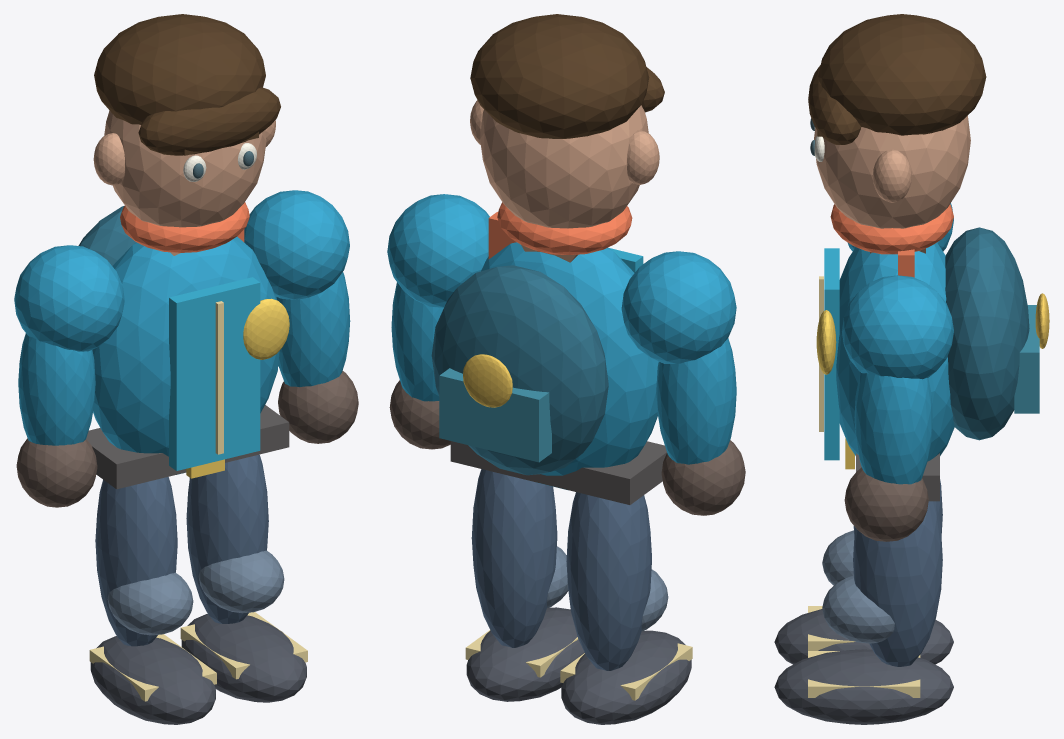
The model's file is runner_hero.glb.
3 renders of one model, left to right at view 1: azimuth 30°, elevation 25°; view 2: azimuth 150°, elevation 25°; view 3: azimuth 270°, elevation 25°, orthographic. The views are drawn at different scales.
Visible parts, largest first — view 1: torso, jacket_front, hair_cap, head, shoulder_L, shoulder_R, leg_L, leg_R, boot_L, arm_L, boot_R, arm_R (+13 smaller); view 2: backpack, hair_cap, head, torso, leg_L, leg_R, shoulder_L, shoulder_R, arm_L, boot_L, backpack_pocket, boot_R (+13 smaller); view 3: hair_cap, backpack, head, boot_R, shoulder_R, leg_R, arm_R, torso, glove_R, boot_L, knee_pad_R, neck_scarf (+12 smaller).
Part boxes in pixels (left/top/right/bottom): torso: left=92, top=236, right=279, bottom=474; jacket_front: left=169, top=277, right=260, bottom=470; hair_cap: left=94, top=14, right=265, bottom=124; head: left=104, top=110, right=266, bottom=227; shoulder_L: left=14, top=245, right=124, bottom=351; shoulder_R: left=244, top=190, right=349, bottom=299; leg_L: left=95, top=477, right=177, bottom=646; leg_R: left=186, top=454, right=268, bottom=623; boot_L: left=90, top=636, right=215, bottom=724; arm_L: left=18, top=333, right=95, bottom=445; boot_R: left=181, top=614, right=306, bottom=702; arm_R: left=276, top=272, right=350, bottom=387; backpack: left=431, top=265, right=608, bottom=475; hair_cap: left=470, top=14, right=649, bottom=138; head: left=480, top=105, right=648, bottom=228; torso: left=481, top=242, right=658, bottom=489; leg_L: left=566, top=492, right=651, bottom=670; leg_R: left=471, top=469, right=557, bottom=647; shoulder_L: left=621, top=251, right=736, bottom=363; shoulder_R: left=387, top=194, right=489, bottom=307; arm_L: left=656, top=338, right=736, bottom=464; boot_L: left=561, top=630, right=691, bottom=724; backpack_pocket: left=439, top=368, right=551, bottom=462; boot_R: left=466, top=607, right=584, bottom=701; hair_cap: left=818, top=14, right=986, bottom=135; backpack: left=945, top=227, right=1029, bottom=440; head: left=814, top=115, right=970, bottom=228; boot_R: left=774, top=649, right=953, bottom=724; shoulder_R: left=842, top=275, right=953, bottom=379; leg_R: left=853, top=501, right=942, bottom=666; arm_R: left=854, top=372, right=932, bottom=484; torso: left=836, top=242, right=954, bottom=461; glove_R: left=844, top=467, right=928, bottom=541; boot_L: left=774, top=609, right=953, bottom=664; knee_pad_R: left=822, top=575, right=894, bottom=643; neck_scarf: left=830, top=204, right=953, bottom=254.
Bounding box in the file's own units: 1.38 × 2.63 × 0.98.
